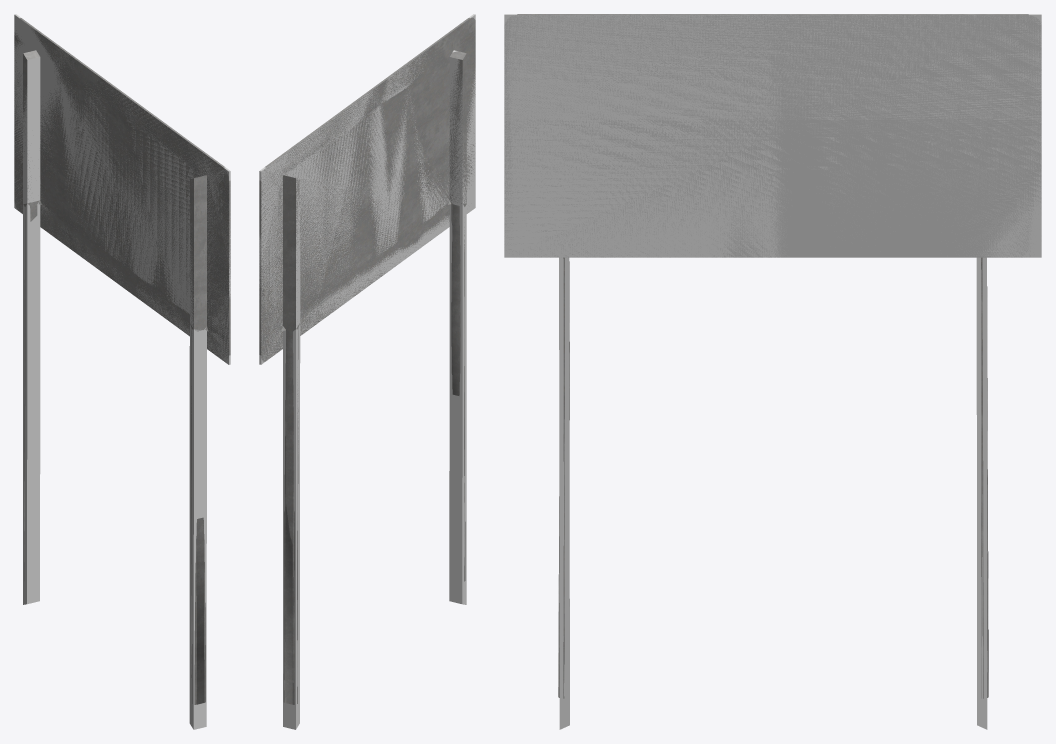
The model's file is rlsstandingsign1.dae.
3 renders of one model, left to right at view 1: azimuth 30°, elevation 25°; view 2: azimuth 150°, elevation 25°; view 3: azimuth 270°, elevation 25°, orthographic. The views are drawn at different scales.
Parts seen in each view (by area): view 1: Colmesh-1, rlssignS2_a50, rlssignS2_a500, rlssignS2_a250; view 2: Colmesh-1, rlssignS2_a500, rlssignS2_a50, rlssignS2_a250; view 3: Colmesh-1, rlssignS2_a50, rlssignS2_a500, rlssignS2_a250.
Boxes of the visible parts, x1,y1,x2,y2 form: Colmesh-1: (14,14,230,729); rlssignS2_a50: (14,49,228,704); rlssignS2_a500: (14,27,230,704); rlssignS2_a250: (14,18,230,704); Colmesh-1: (259,14,475,729); rlssignS2_a500: (259,18,475,704); rlssignS2_a50: (261,17,475,704); rlssignS2_a250: (259,17,475,704); Colmesh-1: (504,14,1041,729); rlssignS2_a50: (504,15,1041,698); rlssignS2_a500: (504,14,1041,697); rlssignS2_a250: (504,14,1041,698).
Size of the model in its own units: 0.1188 by 2.96 by 4.35.
